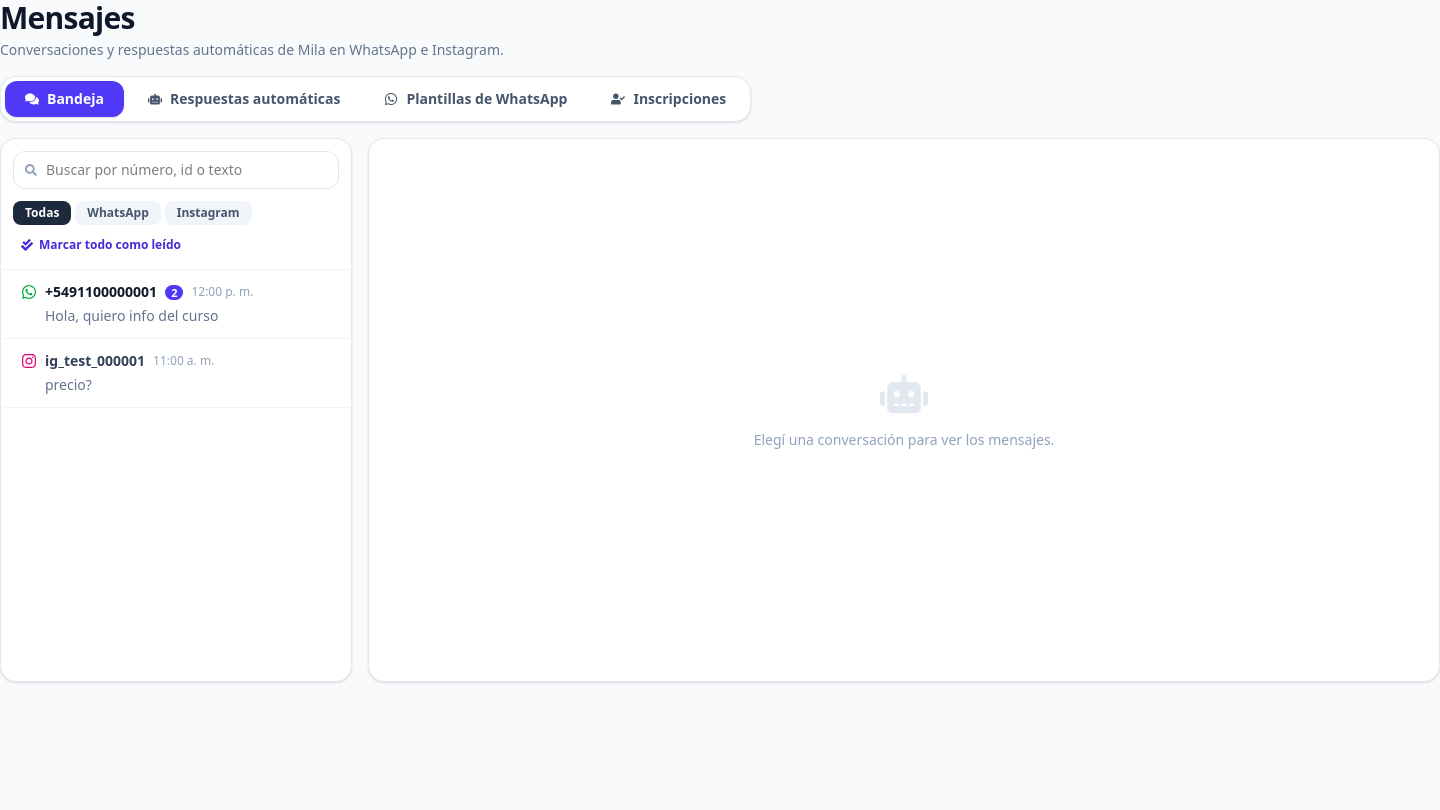
BotMessagePage › drafts and stale actions › keeps the confirmation open and blocks Cancel while the action is running
The image size is (1440, 810).
Click the button "+5491100000001 2 12:00 p. m. Hola, quiero info del curso" at coordinates (176, 304), box [1,270,351,339]
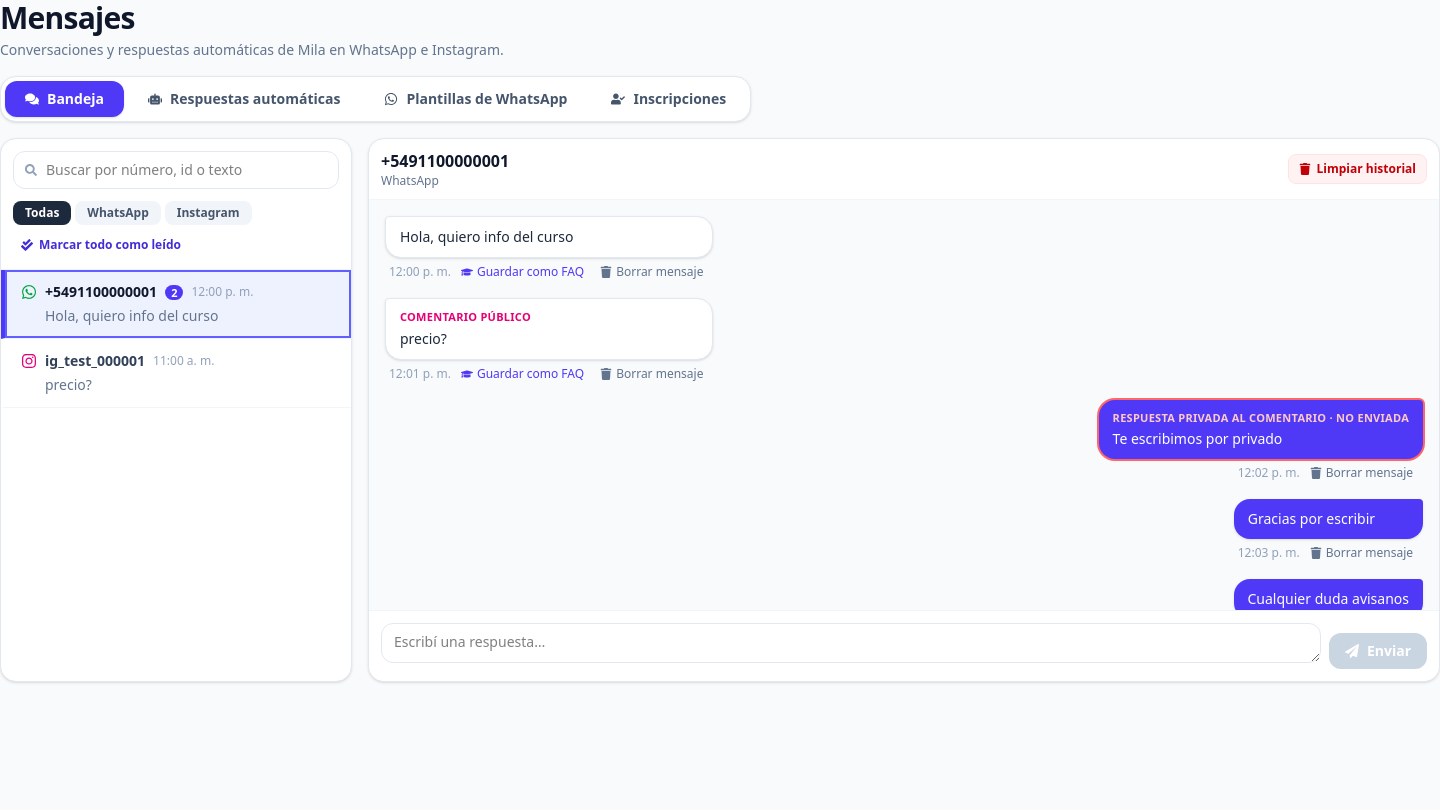
Result: the text "Te escribimos por privado" is shown at [1113,429,1282,448]
Click the button "Limpiar historial" at coordinates (1357, 169), box [1288,154,1427,184]
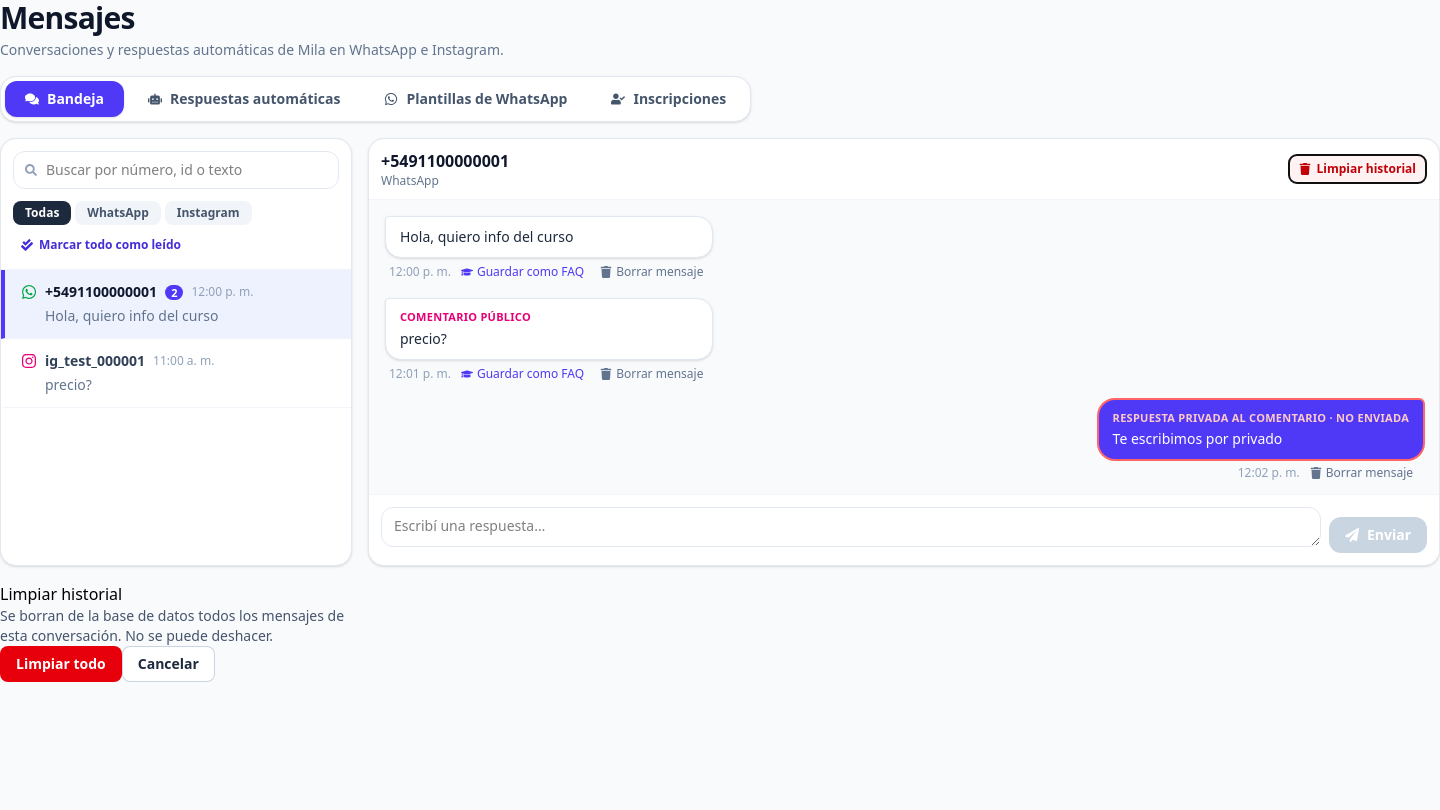
Click the button "Limpiar todo" at coordinates (61, 664), box [0,646,122,682]
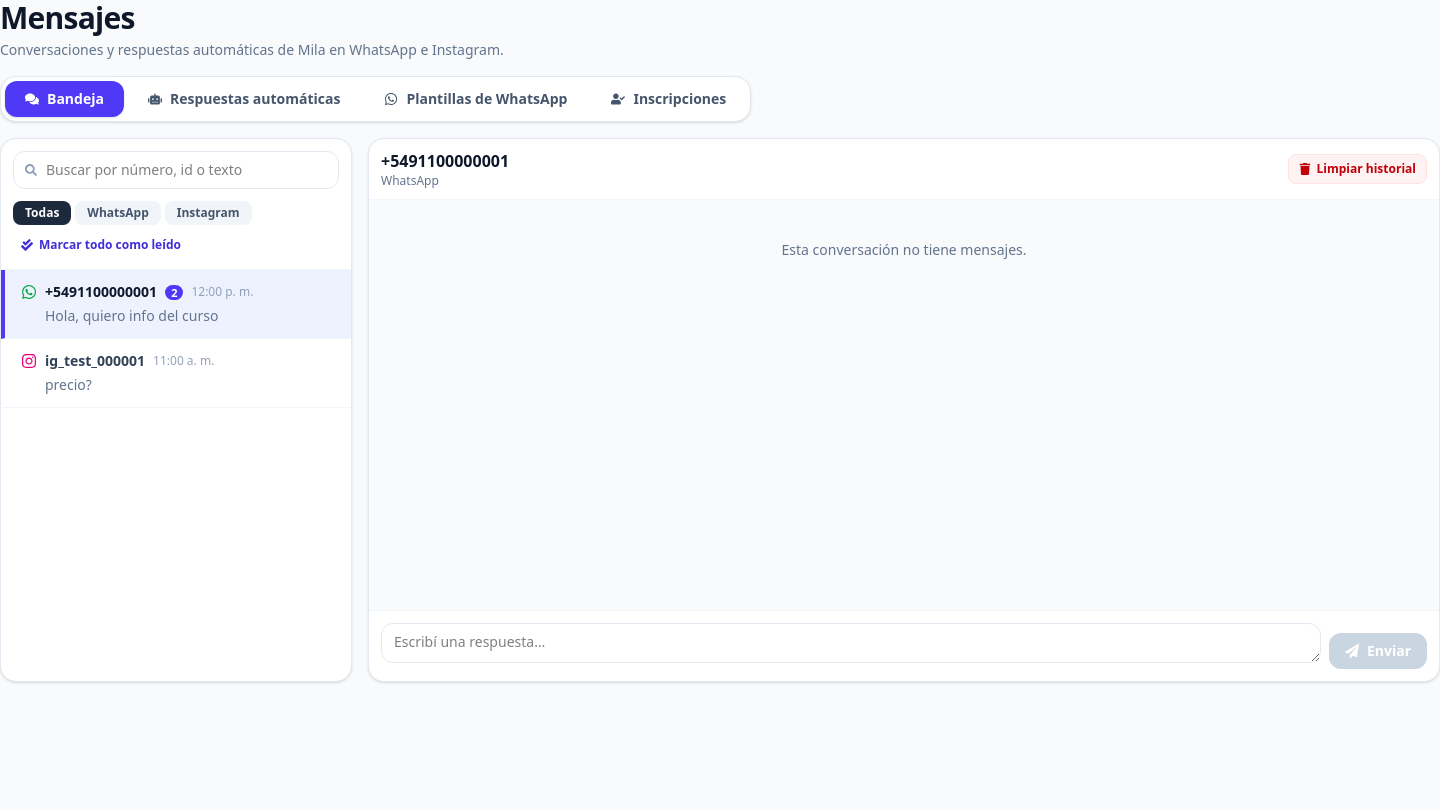
Result: the dialog is gone
